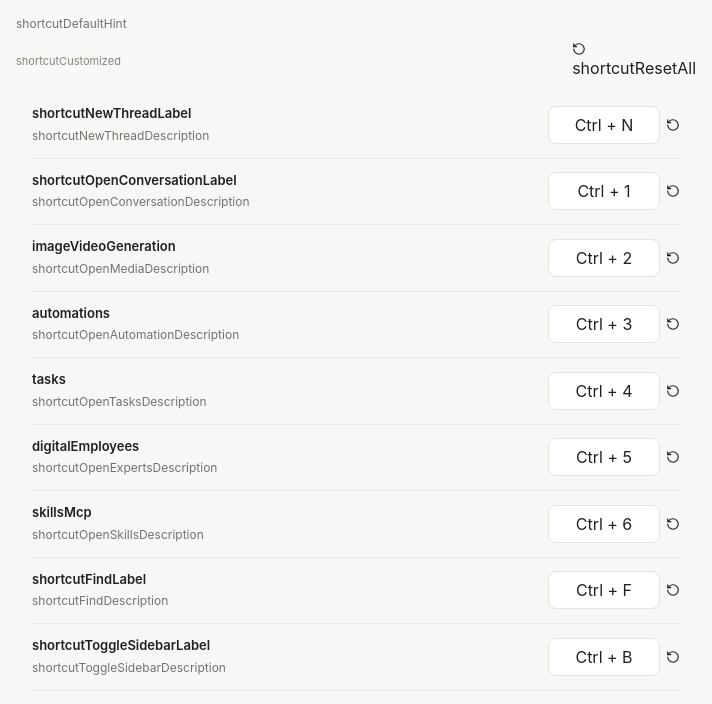
Scenario: shortcut settings page › refuses a combination that would shadow ordinary typing
This screenshot has width=712, height=704.
Click the button "Ctrl + N".
click(604, 125)  # box [548,106,660,144]
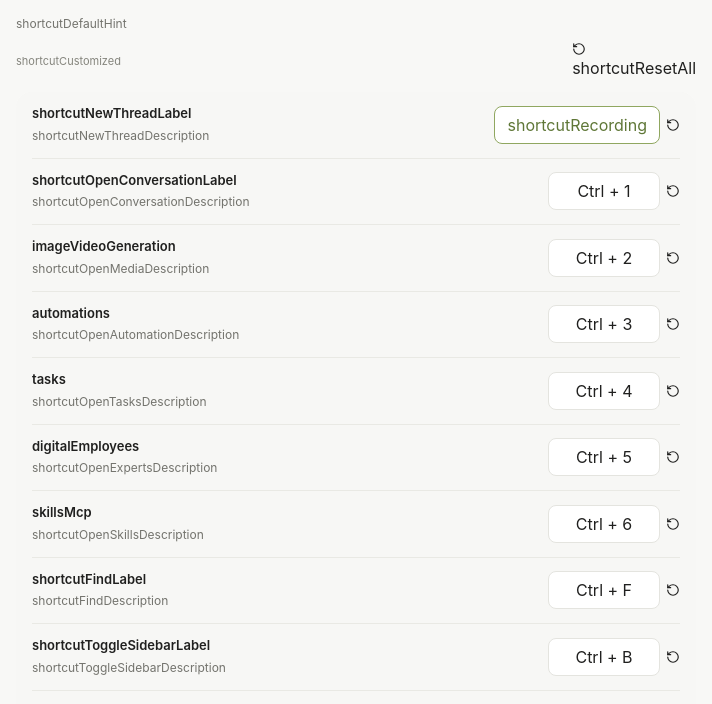
Press a in the button "shortcutRecording", box [494,106,660,144]
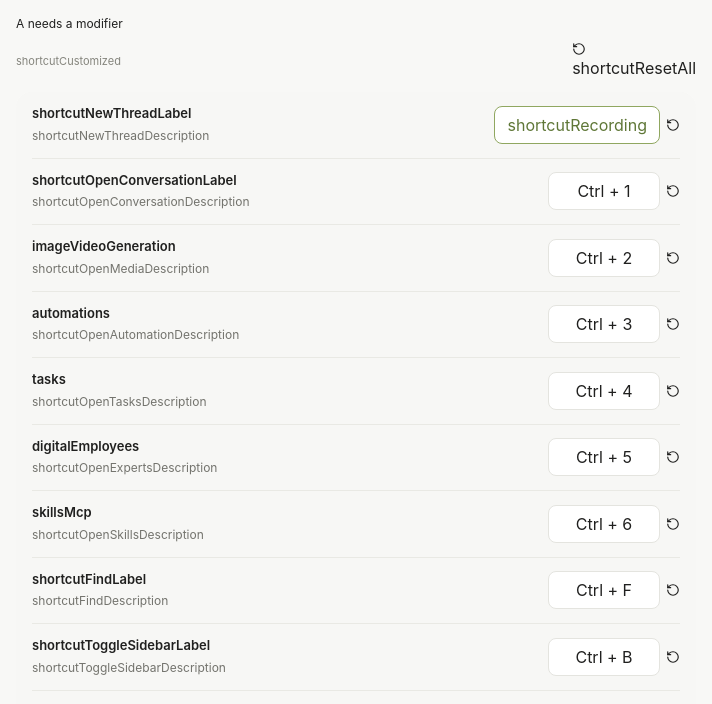
Expected: the button "shortcutRecording" is shown
Expected: the text "A needs a modifier" is shown, [16,16,123,31]
Press a in the button "shortcutRecording", box [494,106,660,144]
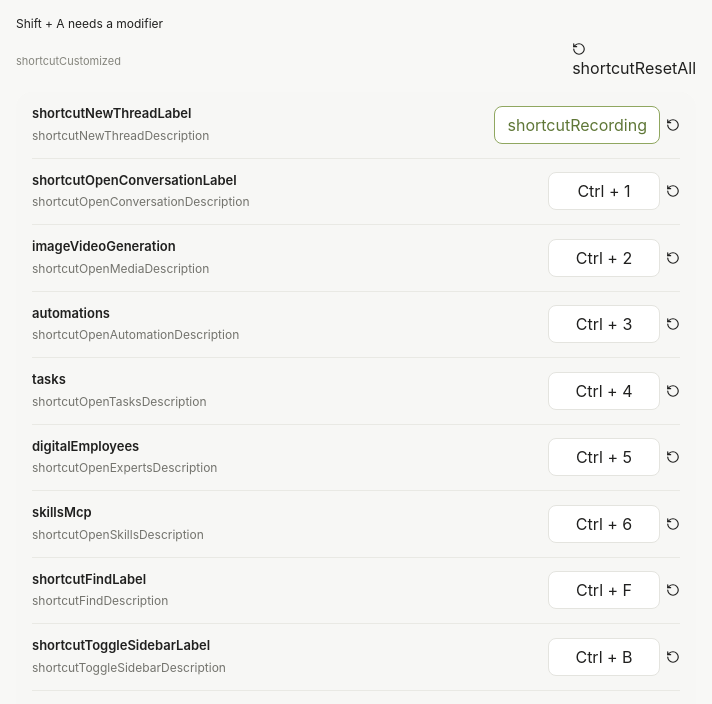
Expected: the text "Shift + A needs a modifier" is shown, [16,16,163,31]
